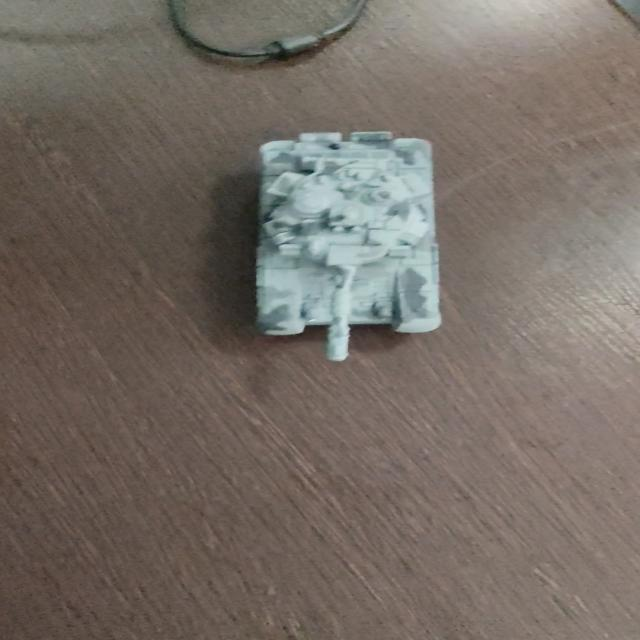tank: (241, 123, 454, 368)
